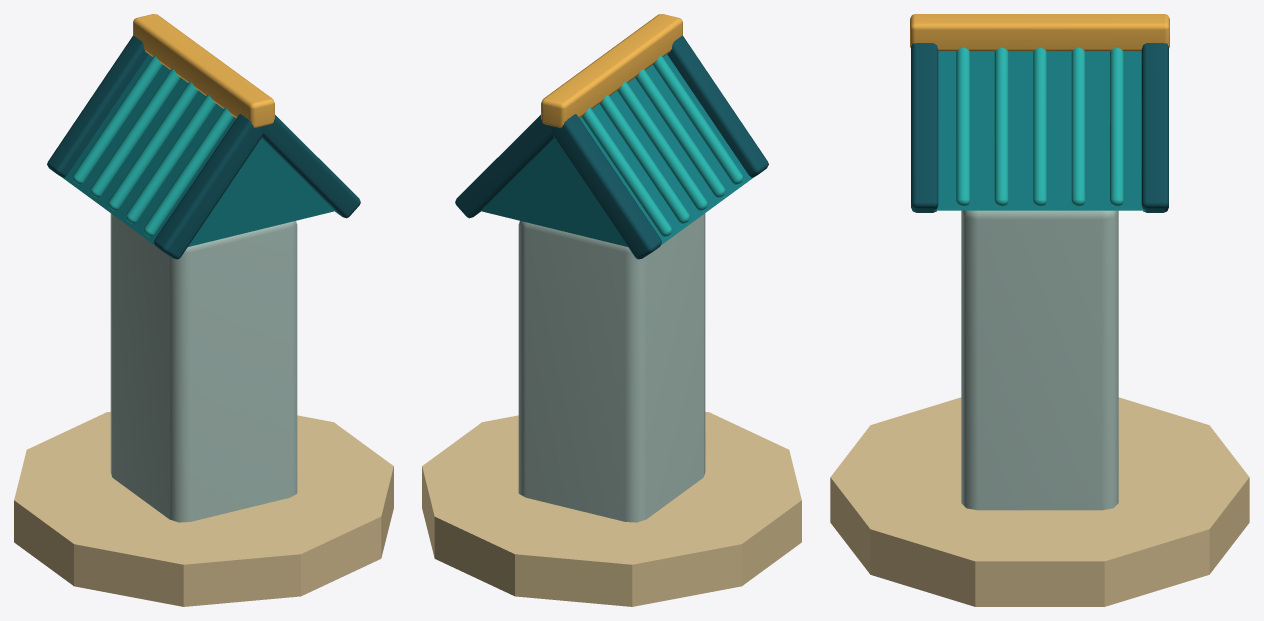
File: Map_MeridianQuay.fbx
3 views of the same model, side by side, from view 1: azimuth 30°, elevation 25°; view 2: azimuth 150°, elevation 25°; view 3: azimuth 270°, elevation 25° (orthographic). The views are drawn at different scales.
Parts seen in each view (by area): view 1: Map_MeridianQuay_Static; view 2: Map_MeridianQuay_Static; view 3: Map_MeridianQuay_Static.
Boxes of the visible parts, x1=… form: Map_MeridianQuay_Static: x1=14, y1=14, x2=393, y2=606; Map_MeridianQuay_Static: x1=422, y1=14, x2=801, y2=606; Map_MeridianQuay_Static: x1=830, y1=14, x2=1249, y2=606.
Size of the model in its own units: 1.9 by 2.66 by 2.
Materials: 1 (1 with a texture image).
